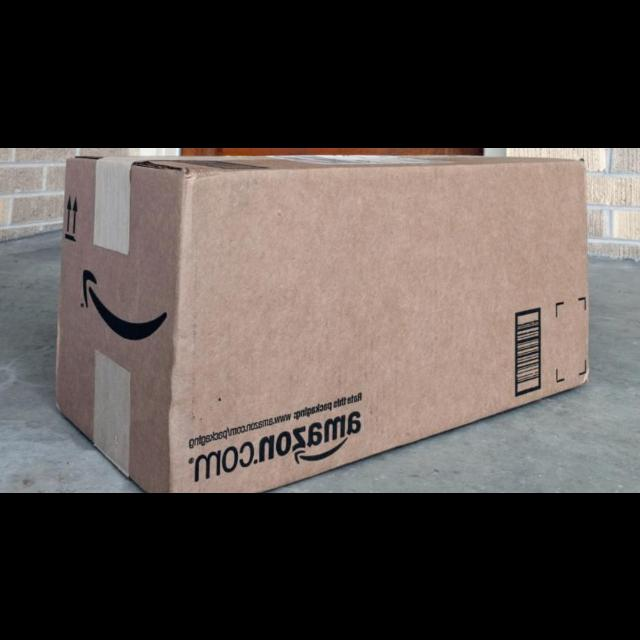box: (56, 153, 590, 492)
